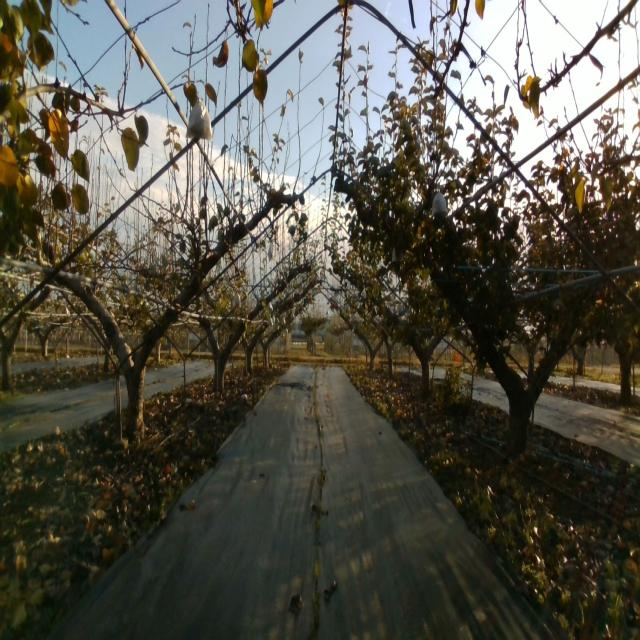pearbags: (185, 97, 213, 142), (431, 192, 448, 216)
